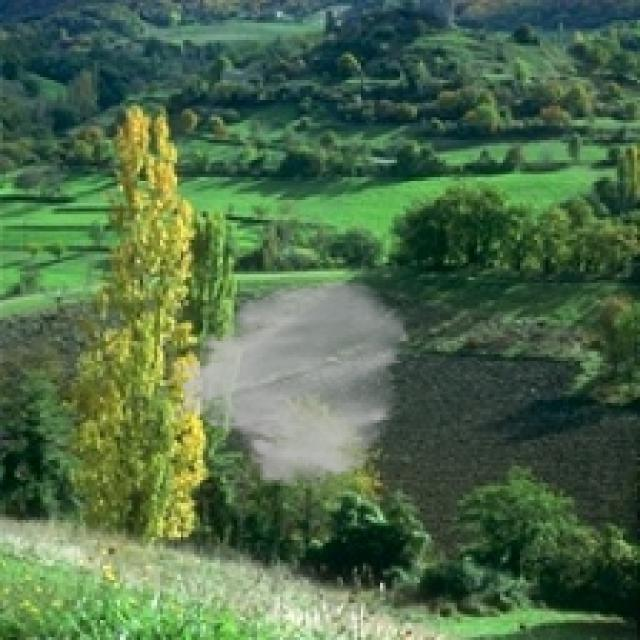smoke: (163, 277, 414, 492)
